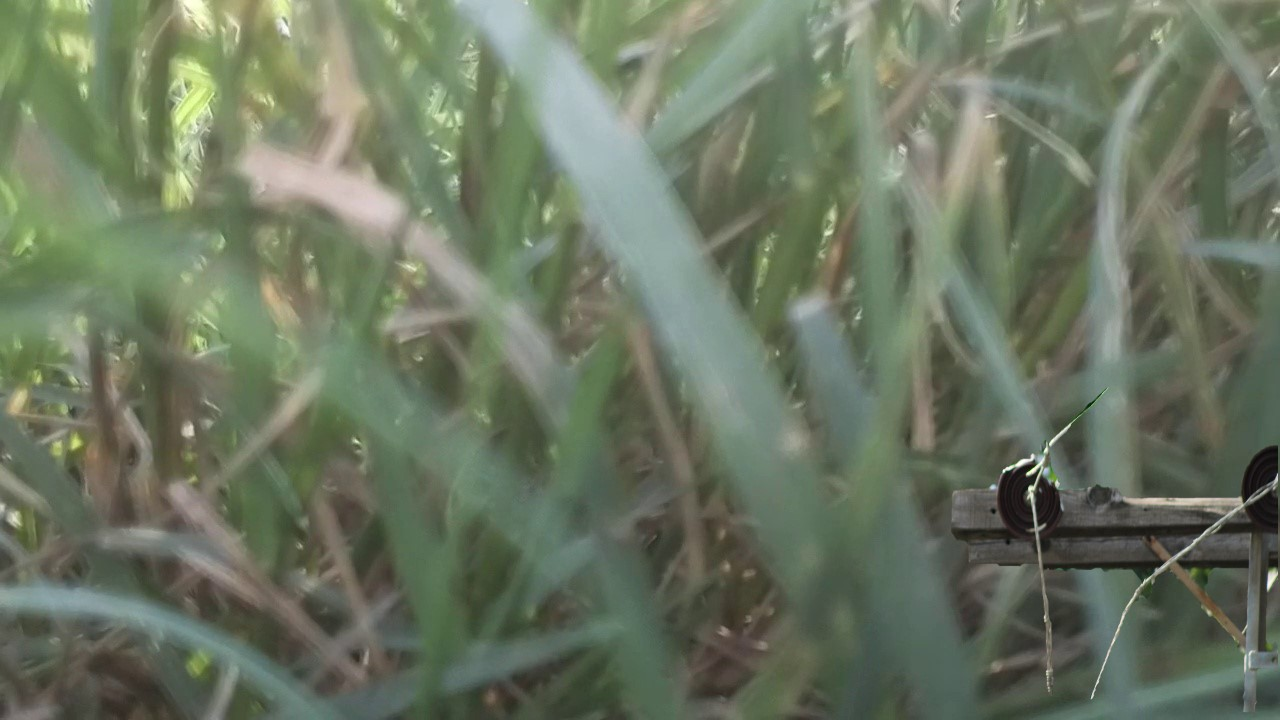defect_disc: (992, 451, 1071, 540)
